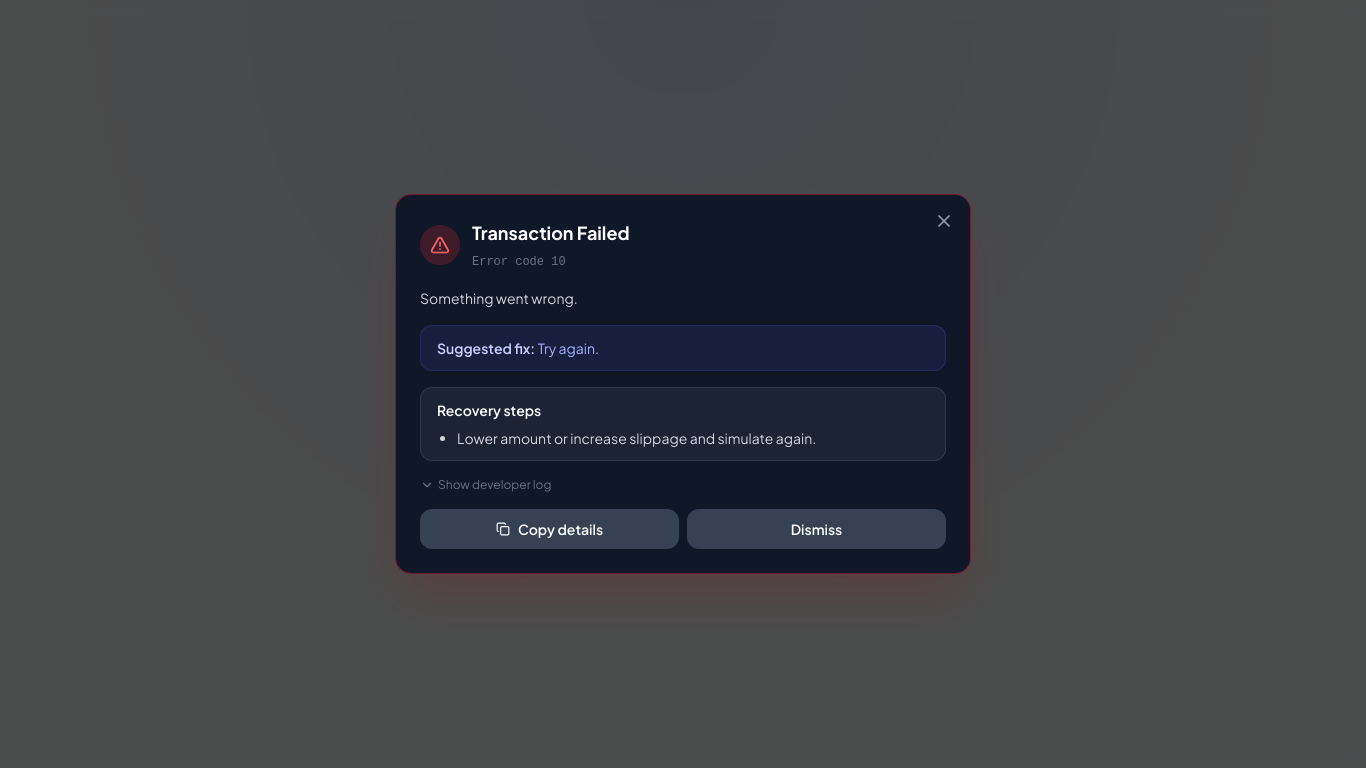
Test: TransactionFailedModal › shows simulation recovery step and supports copy details
Check: the list item "Lower amount or increase slippage and simulate again." is shown, box 457,429 -> 816,447
Click the button "Copy details" at (550, 529), box 420,509 -> 679,549
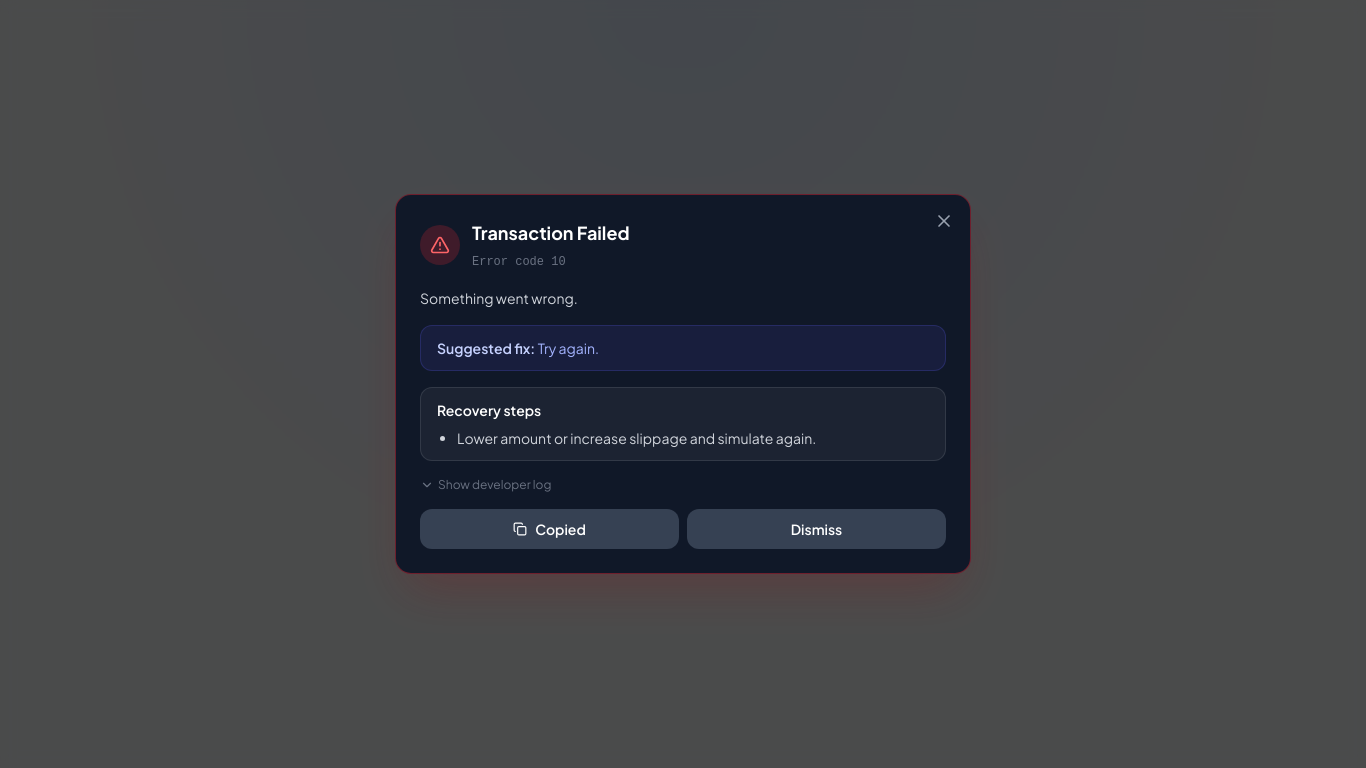
Check: the button "Copied" is shown, box 420,509 -> 679,549
